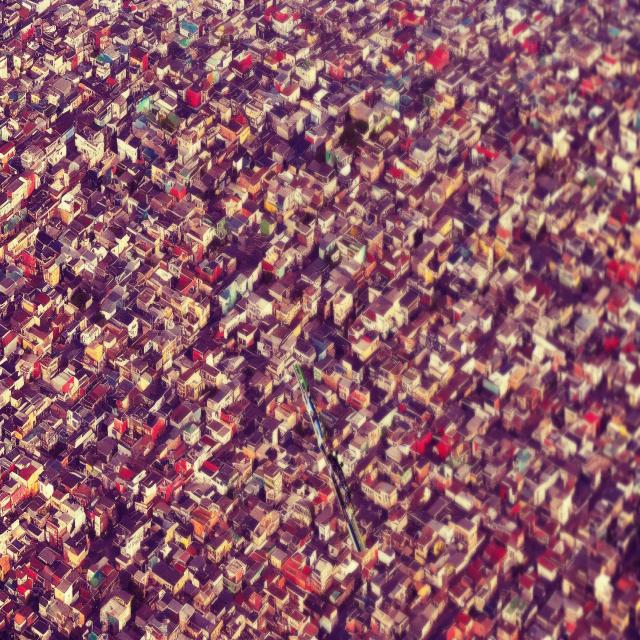airplane: (291, 360, 366, 553)
